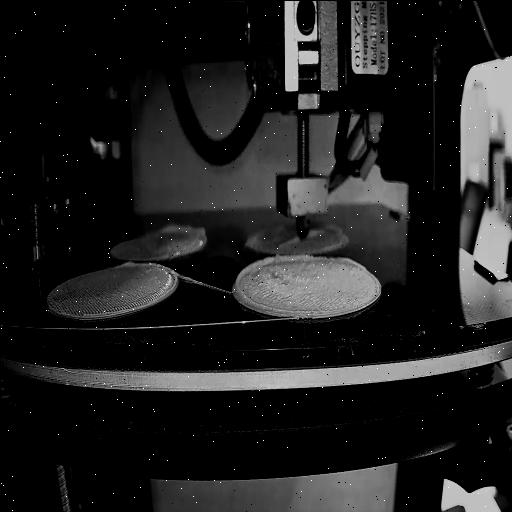over_extrusion: (233, 252, 319, 320), (161, 220, 208, 240), (332, 254, 366, 272), (112, 259, 138, 273), (276, 236, 298, 248), (308, 224, 325, 238)
